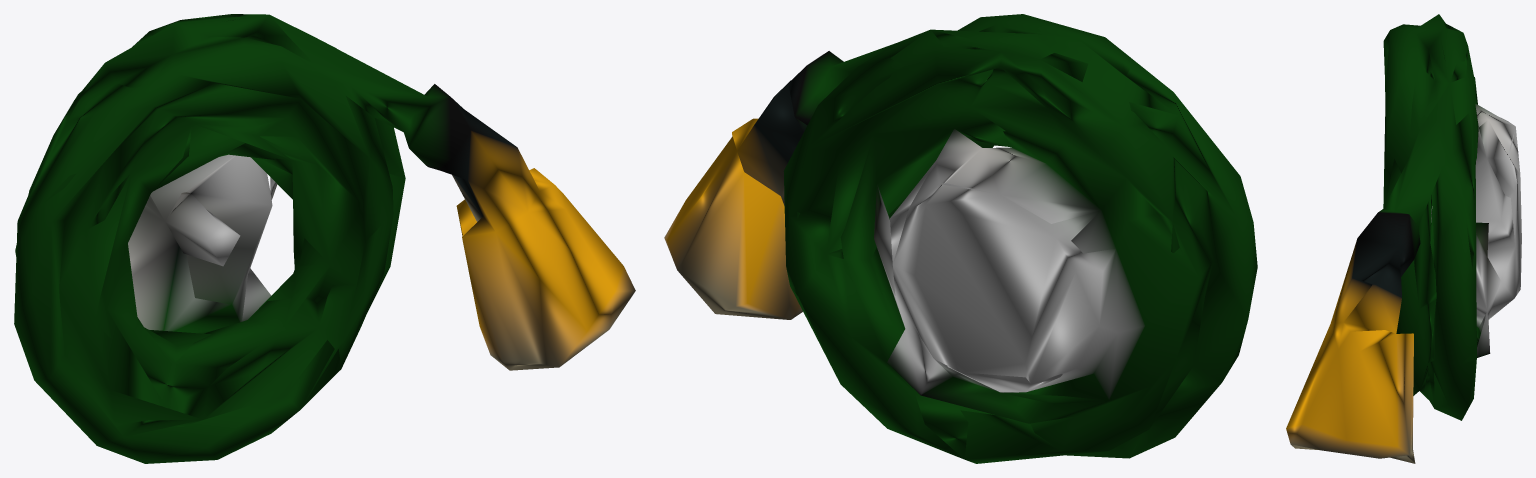
Rendered from gen3d-garden-hose-lod1.glb.
3 renders of one model, left to right at view 1: azimuth 30°, elevation 25°; view 2: azimuth 150°, elevation 25°; view 3: azimuth 270°, elevation 25°, orthographic. The views are drawn at different scales.
Visible parts, largest first — view 1: part_0; view 2: part_0; view 3: part_0.
Boxes of the visible parts, x1,y1,x2,y2 form: part_0: (14,14,635,463); part_0: (664,14,1257,463); part_0: (1286,14,1521,463).
Bounding box in the file's own units: 1.42 × 0.9974 × 0.5993.
